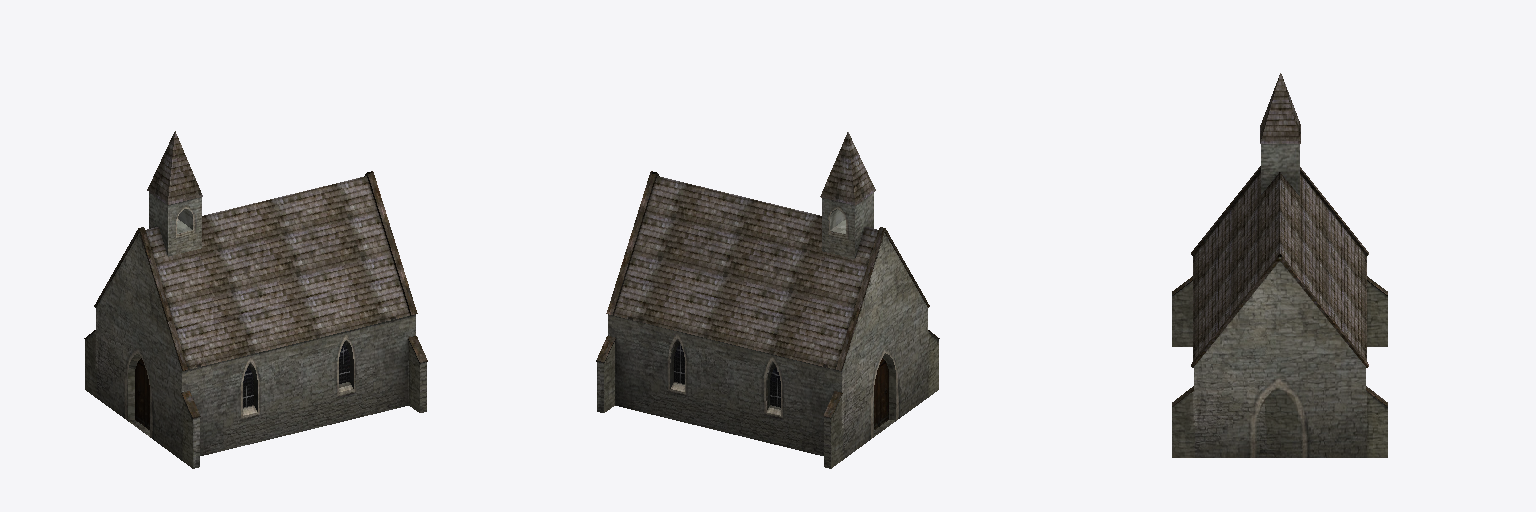
3 views of the same model, side by side, from view 1: azimuth 30°, elevation 25°; view 2: azimuth 150°, elevation 25°; view 3: azimuth 270°, elevation 25° (orthographic).
Bounding box in the file's own units: 8.3 × 9.76 × 6.62.
1 materials, 1 textured.